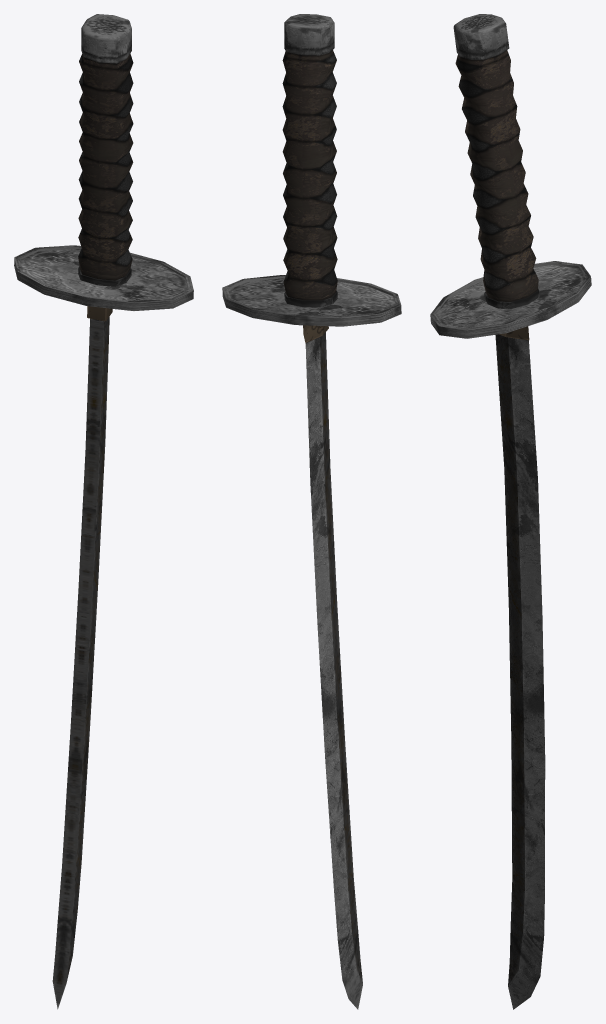
3 renders of one model, left to right at view 1: azimuth 30°, elevation 25°; view 2: azimuth 210°, elevation 25°; view 3: azimuth 270°, elevation 25°, orthographic.
Parts seen in each view (by area): view 1: Object_2; view 2: Object_2; view 3: Object_2.
Part boxes in pixels (bbox=[...]): Object_2: bbox=[14, 14, 193, 1009]; Object_2: bbox=[222, 14, 401, 1009]; Object_2: bbox=[430, 14, 591, 1009].
Size of the model in its own units: 0.7118 by 5.22 by 0.7583.
Materials: 1 (1 with a texture image).
